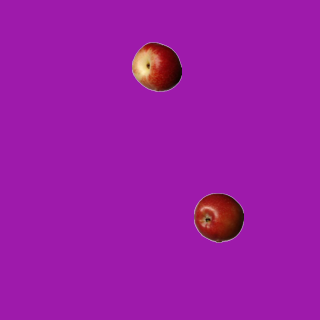Apple Braeburn: (193, 192, 243, 242)
Nectarine: (131, 41, 181, 91)
